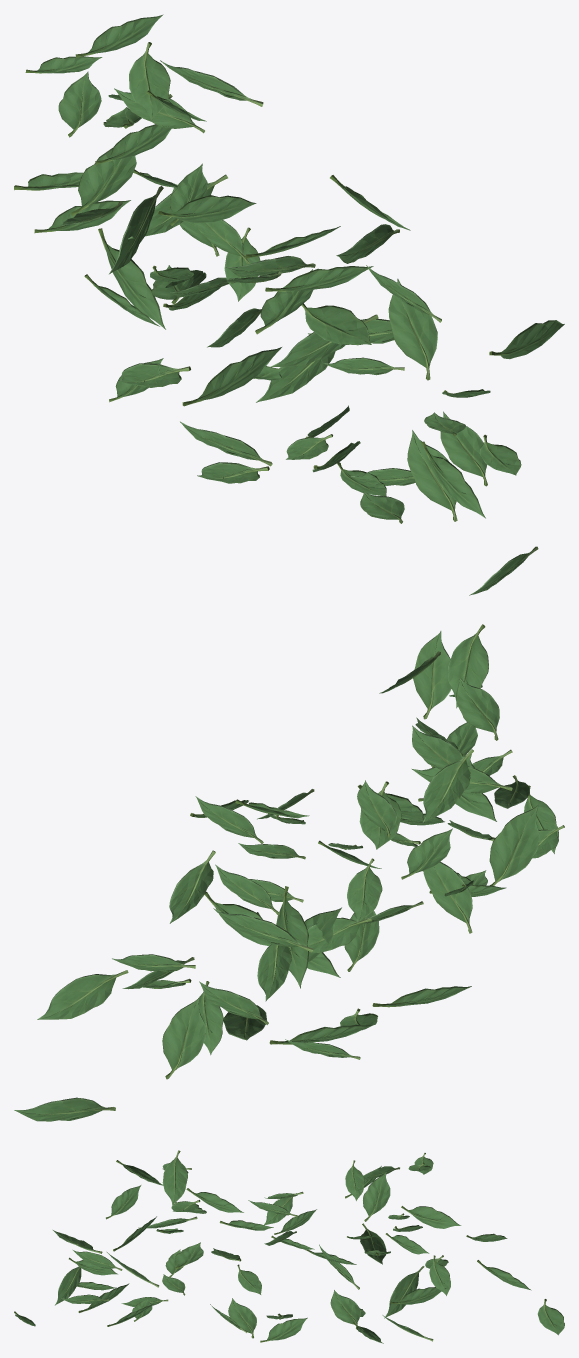
File: holy_canopy18_full.glb
3 renders of one model, top to bottom at view 1: azimuth 30°, elevation 25°; view 2: azimuth 150°, elevation 25°; view 3: azimuth 270°, elevation 25°, orthographic. The views are drawn at different scales.
Parts seen in each view (by area): view 1: holy_canopy18; view 2: holy_canopy18; view 3: holy_canopy18.
Part boxes in pixels (x1,y1,x2,y2): holy_canopy18: [14, 14, 564, 595]; holy_canopy18: [14, 624, 564, 1121]; holy_canopy18: [14, 1150, 564, 1343].
Size of the model in its own units: 7.21 by 9.26 by 24.48.
Materials: 1 (1 with a texture image).
